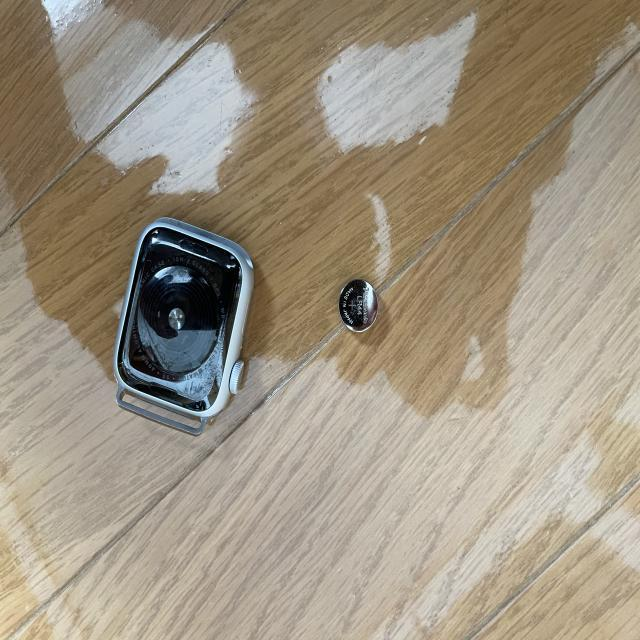COIN: (336, 277, 381, 334)
